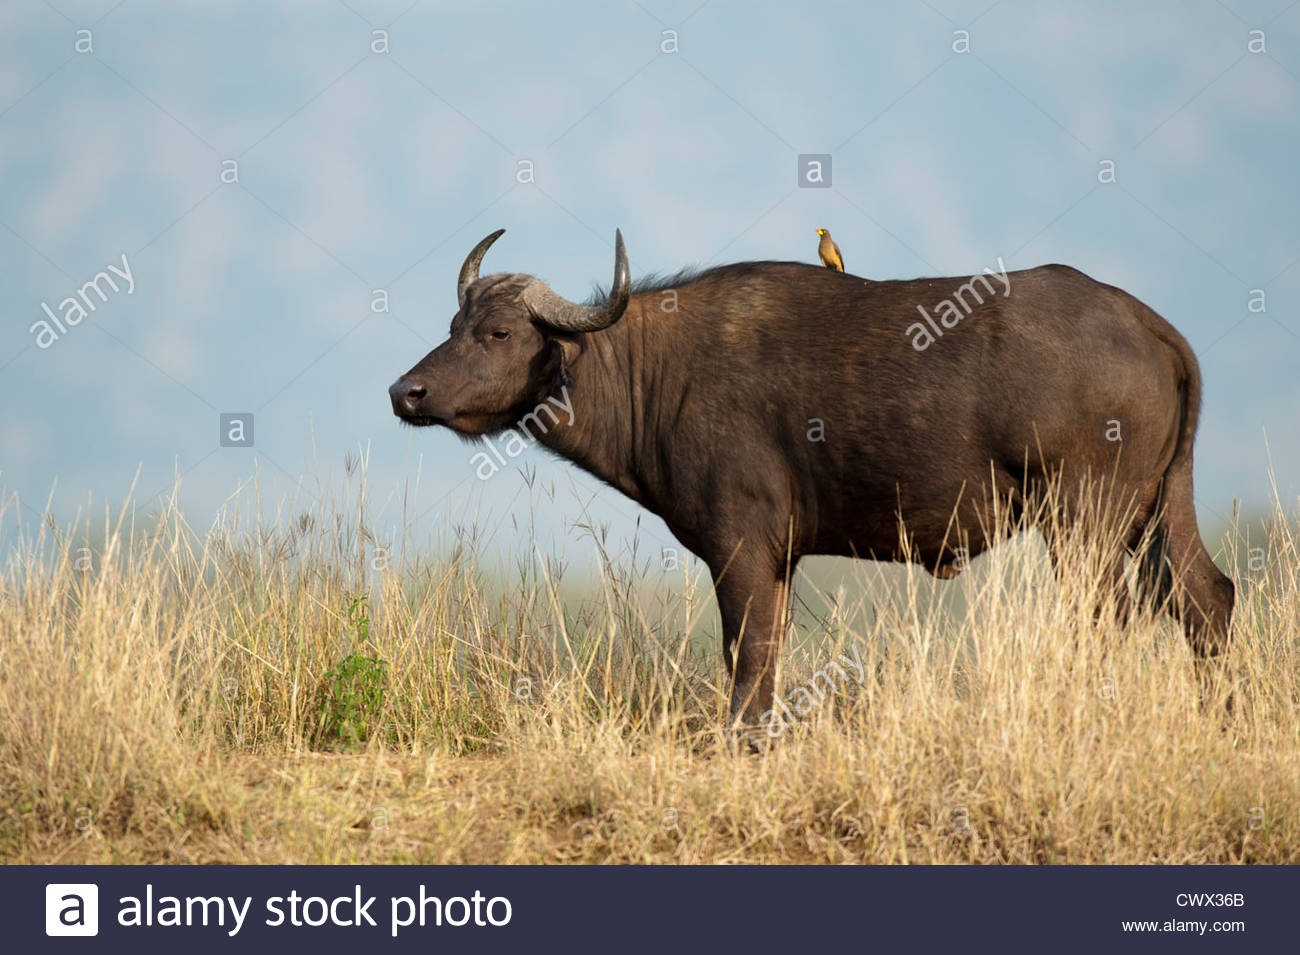bird: (810, 222, 855, 271)
buffalo: (380, 215, 1254, 775)
